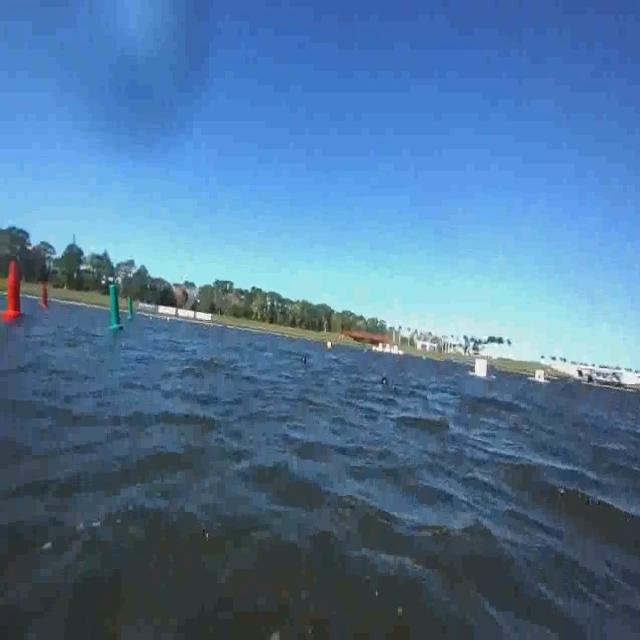green-column-buoy: (108, 286, 122, 332), (128, 295, 136, 320)
red-column-buoy: (4, 260, 24, 320), (40, 280, 50, 312)
yellow-buoy: (326, 341, 332, 353)
